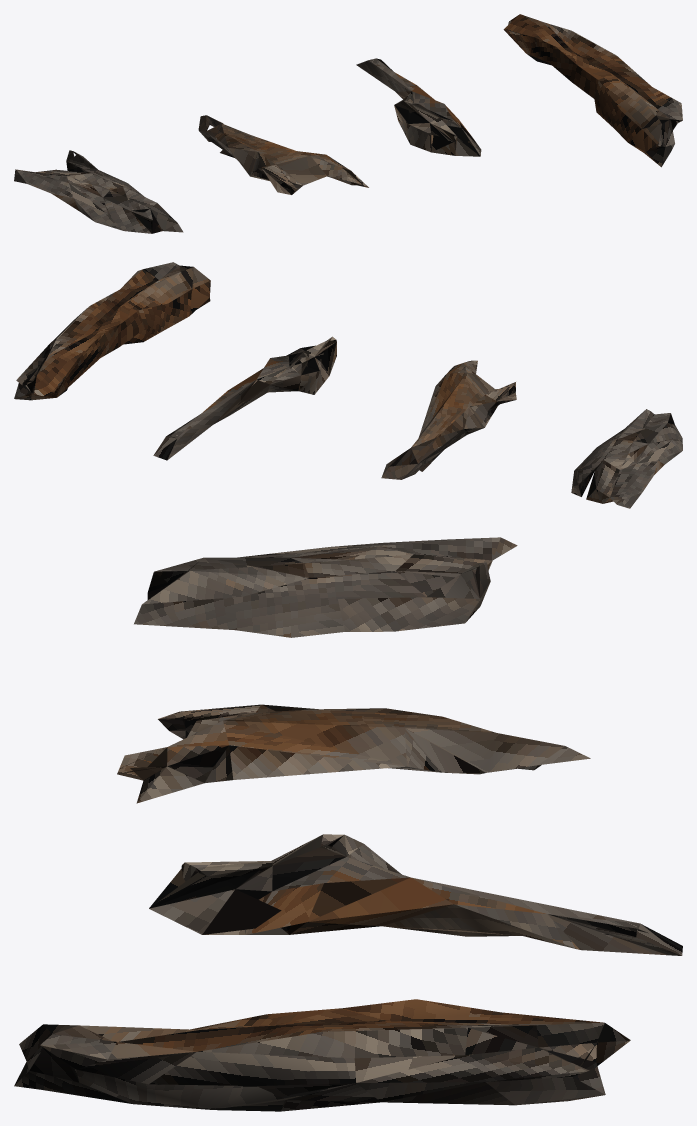
File: bark_debris_01.glb
3 views of the same model, one above another, from view 1: azimuth 30°, elevation 25°; view 2: azimuth 150°, elevation 25°; view 3: azimuth 270°, elevation 25° (orthographic). The views are drawn at different scales.
Visible parts, largest first — view 1: bark_debris_01_d, bark_debris_01_a, bark_debris_01_b, bark_debris_01_c; view 2: bark_debris_01_d, bark_debris_01_a, bark_debris_01_b, bark_debris_01_c; view 3: bark_debris_01_d, bark_debris_01_c, bark_debris_01_a, bark_debris_01_b.
Boxes of the visible parts, x1,y1,x2,y2 form: bark_debris_01_d: (503, 14, 682, 167); bark_debris_01_a: (14, 150, 183, 233); bark_debris_01_b: (198, 115, 368, 194); bark_debris_01_c: (356, 58, 481, 156); bark_debris_01_d: (14, 262, 210, 400); bark_debris_01_a: (571, 409, 682, 508); bark_debris_01_b: (381, 360, 516, 479); bark_debris_01_c: (153, 336, 336, 460); bark_debris_01_d: (14, 999, 630, 1111); bark_debris_01_c: (149, 834, 682, 955); bark_debris_01_a: (134, 537, 517, 637); bark_debris_01_b: (117, 704, 590, 803).
Size of the model in its own units: 1.19 by 0.098 by 0.6237.
1 material, 1 textured.
